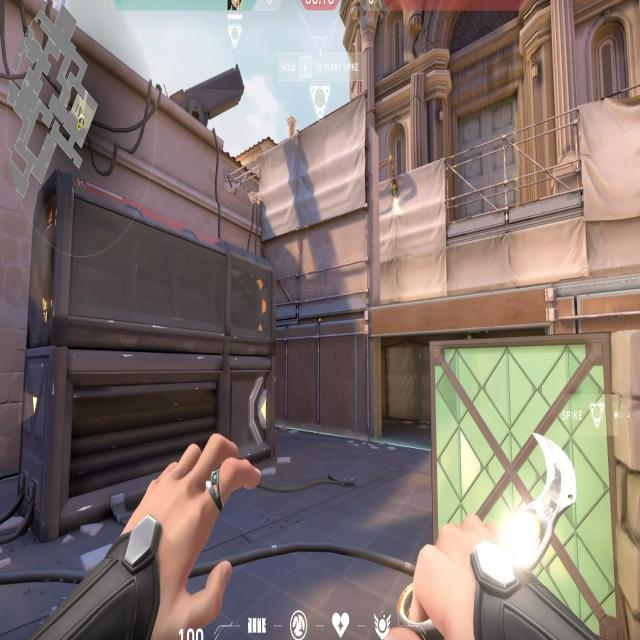A_Heaven_Wall: (258, 156, 377, 310)
A_Hell: (353, 314, 584, 456)
A_Site_Box: (431, 341, 619, 640)
